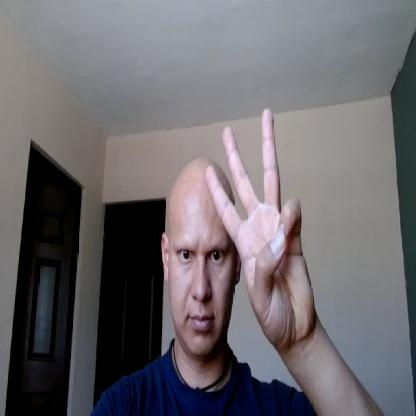W: (204, 106, 316, 350)
